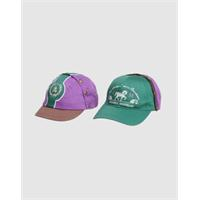hat: (94, 74, 162, 126), (35, 72, 98, 122)
